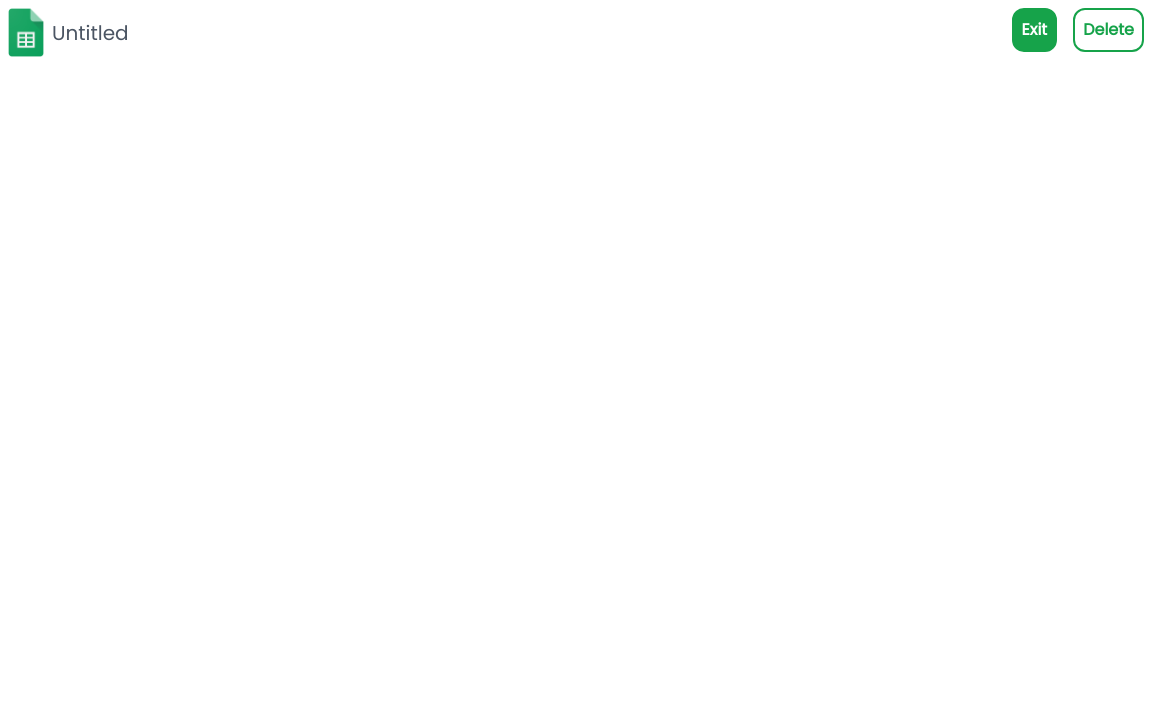
Navbar › exit to dashboard by clicking button DELETE
This screenshot has width=1152, height=720.
Click the button "Delete" at (1109, 30), box [1073,8,1144,52]
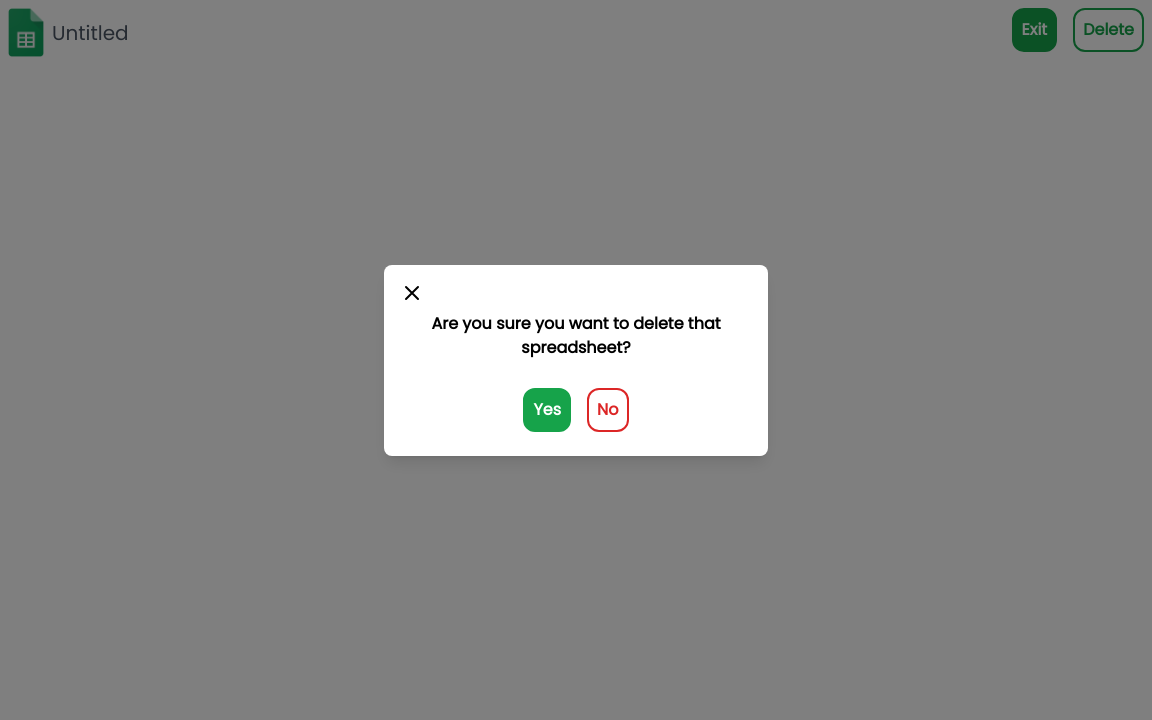
expect the heading "Are you sure you want to delete that spreadsheet?" is shown: met, box [431,312,720,358]
